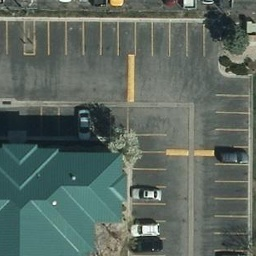car: (75, 108, 94, 143), (213, 147, 248, 165), (128, 185, 162, 201), (129, 221, 160, 236)
